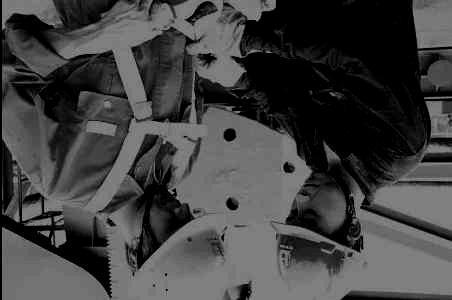helmet: (270, 170, 365, 298), (120, 189, 228, 300)
